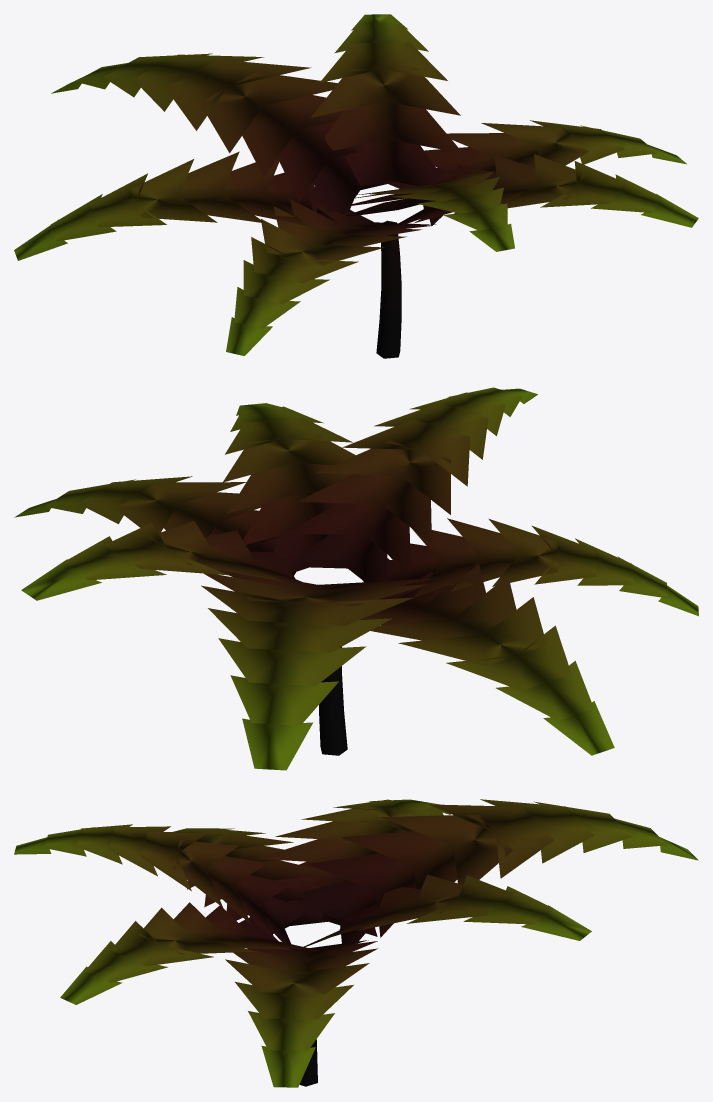
Rendered from palm_sapling_a.glb.
The picture shows the model from 3 angles, top to bottom: view 1: azimuth 30°, elevation 25°; view 2: azimuth 150°, elevation 25°; view 3: azimuth 270°, elevation 25°; orthographic projection. The views are drawn at different scales.
Visible parts, largest first — view 1: palm_sapling_a; view 2: palm_sapling_a; view 3: palm_sapling_a.
Boxes of the visible parts, box(x1,y1,x2,y2) form: palm_sapling_a: box(14, 14, 698, 358); palm_sapling_a: box(14, 387, 698, 770); palm_sapling_a: box(14, 799, 698, 1087).
Bounding box in the file's own units: 2.4 × 0.8959 × 2.38.
1 material, 1 textured.
